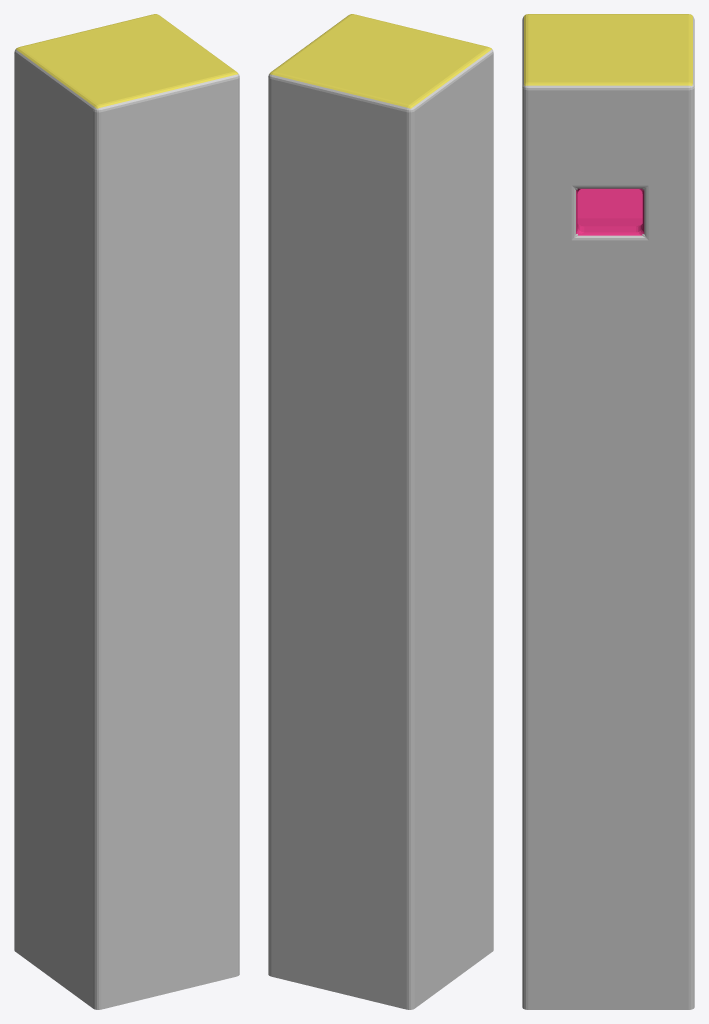
File: SM_Fishville_BuildingWithGlass.fbx
3 views of the same model, side by side, from view 1: azimuth 30°, elevation 25°; view 2: azimuth 150°, elevation 25°; view 3: azimuth 270°, elevation 25° (orthographic). The views are drawn at different scales.
Parts seen in each view (by area): view 1: Building_013.012; view 2: Building_013.012; view 3: Building_013.012.
Part boxes in pixels (x1=…): Building_013.012: x1=14, y1=14, x2=239, y2=1009; Building_013.012: x1=268, y1=14, x2=493, y2=1009; Building_013.012: x1=522, y1=14, x2=694, y2=1009.
Bounding box in the file's own units: 826 × 4892 × 826.
